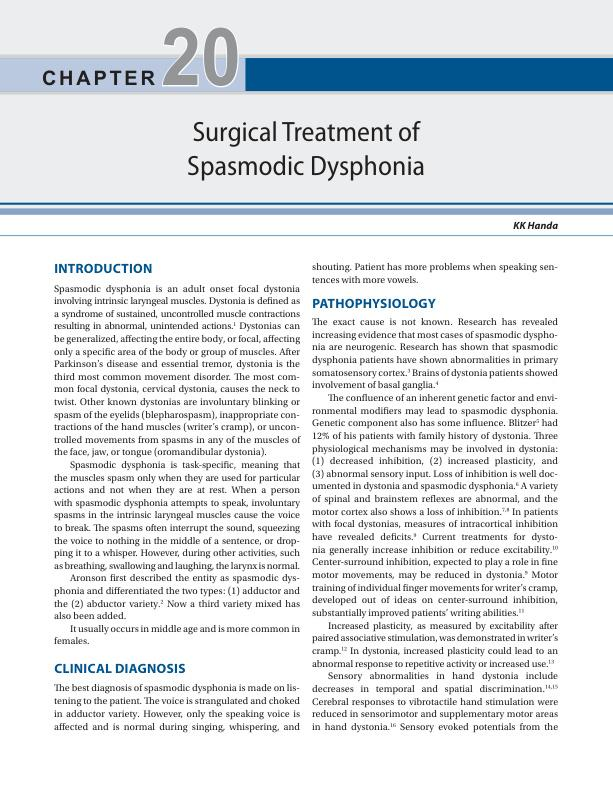chapter-heading: (187, 119, 424, 183)
section-heading: (312, 297, 437, 309), (54, 663, 186, 674), (54, 263, 152, 274)
text: (311, 316, 560, 734), (52, 284, 301, 646), (53, 682, 302, 734), (311, 262, 558, 284)
